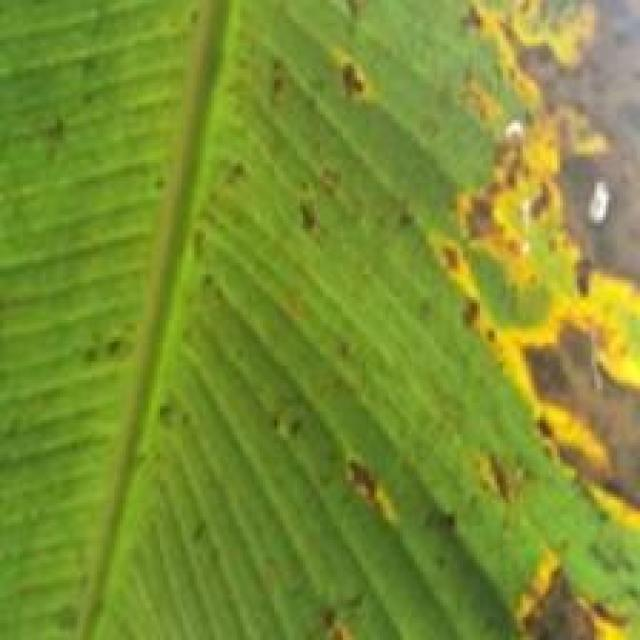Downey_mildrew: (261, 0, 640, 640)
